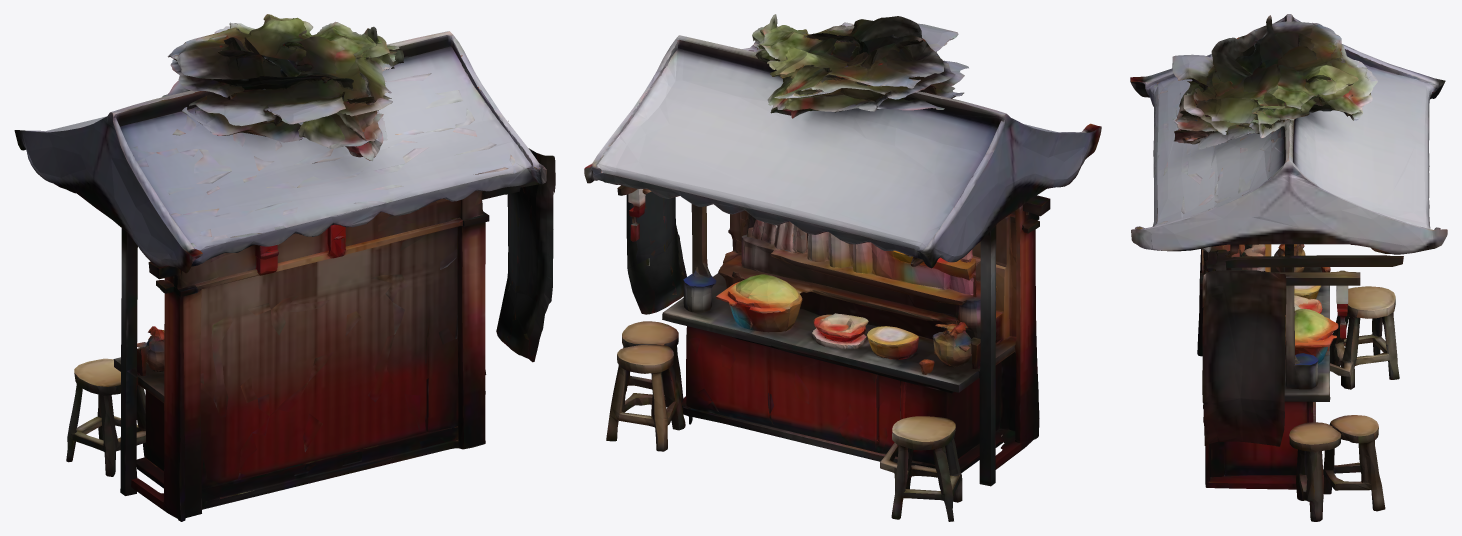
Rendered from prop_kurogane_stall.glb.
3 renders of one model, left to right at view 1: azimuth 30°, elevation 25°; view 2: azimuth 150°, elevation 25°; view 3: azimuth 270°, elevation 25°, orthographic. The views are drawn at different scales.
Visible parts, largest first — view 1: geometry_0; view 2: geometry_0; view 3: geometry_0.
Part boxes in pixels (x1,y1,x2,y2): geometry_0: [14, 14, 555, 521]; geometry_0: [584, 14, 1101, 521]; geometry_0: [1130, 14, 1447, 521].
Size of the model in its own units: 0.9817 by 0.9926 by 0.7462.
1 material, 1 textured.
